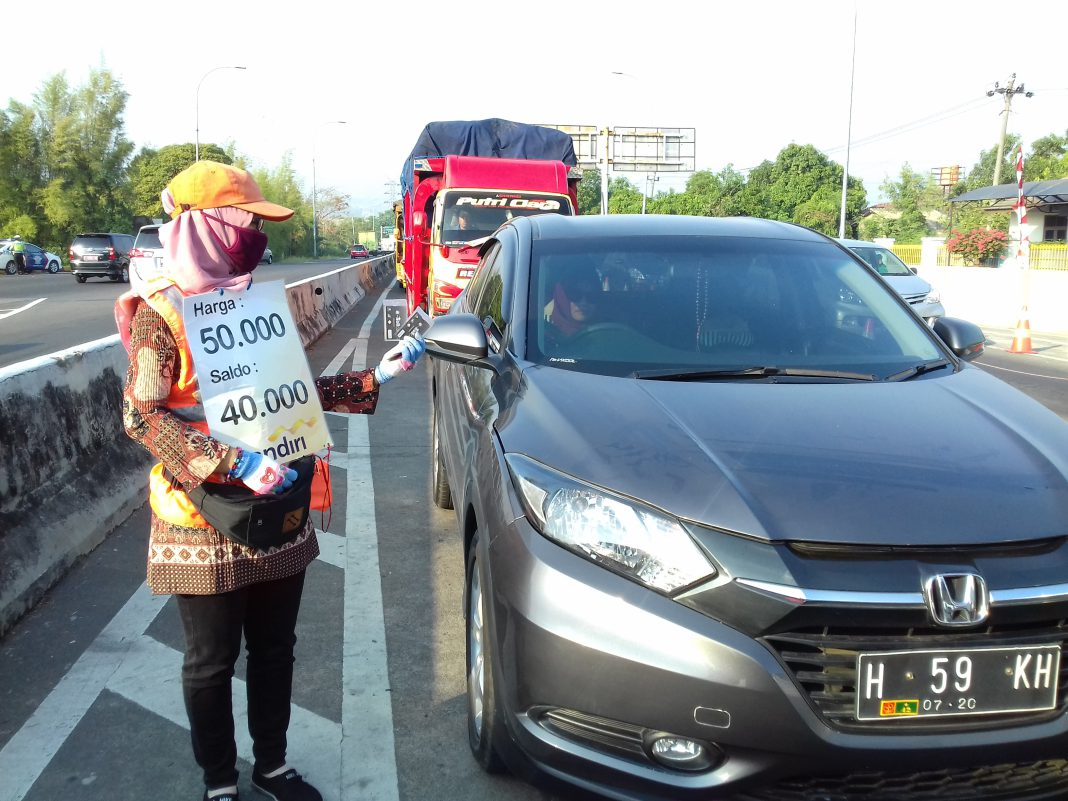plate: (858, 648, 1058, 716)
